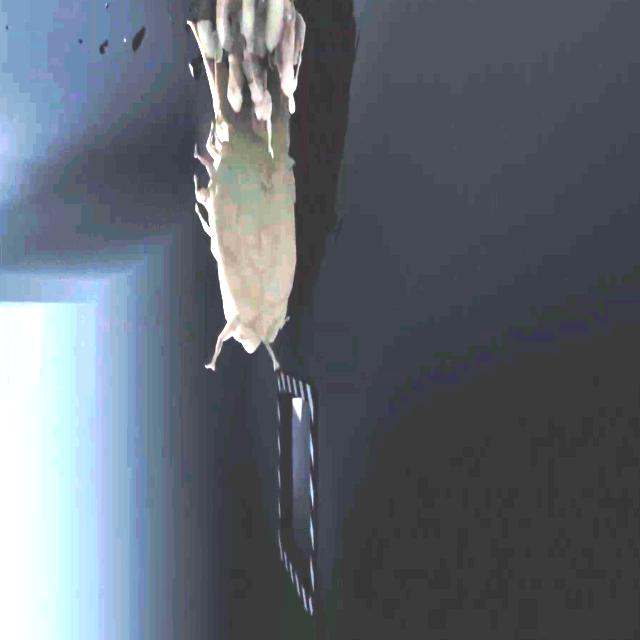blob: (195, 118, 298, 372)
zombie: (248, 57, 276, 154), (278, 6, 299, 113), (227, 49, 244, 117), (264, 0, 282, 56), (215, 0, 233, 51), (239, 0, 256, 51)
